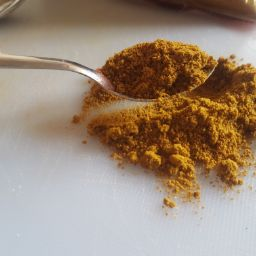Curry powder: (60, 39, 256, 220), (121, 103, 256, 220), (106, 32, 220, 101), (216, 49, 256, 202)
